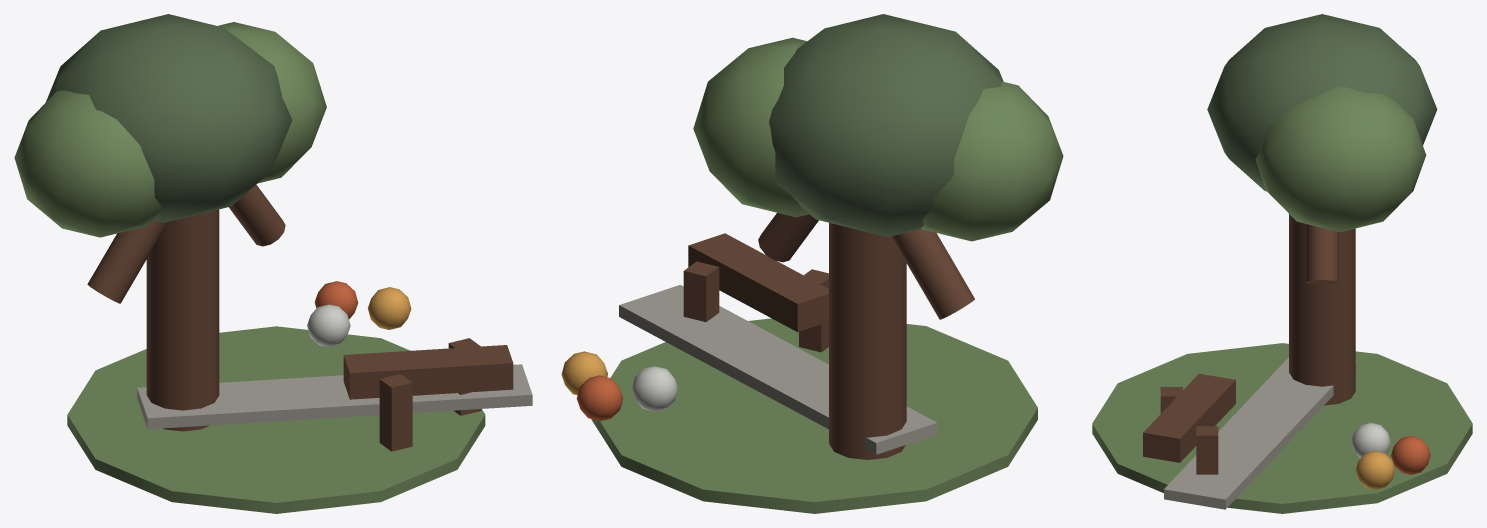
The model's file is old-oak.glb.
The picture shows the model from 3 angles, left to right: view 1: azimuth 30°, elevation 25°; view 2: azimuth 150°, elevation 25°; view 3: azimuth 270°, elevation 25°; orthographic projection. The views are drawn at different scales.
Visible parts, largest first — view 1: ParkShell; view 2: ParkShell; view 3: ParkShell.
Part boxes in pixels (x1,y1,x2,y2): ParkShell: (14, 14, 532, 513); ParkShell: (561, 14, 1063, 513); ParkShell: (1092, 14, 1472, 513).
Bounding box in the file's own units: 2.14 × 1.83 × 1.72.
